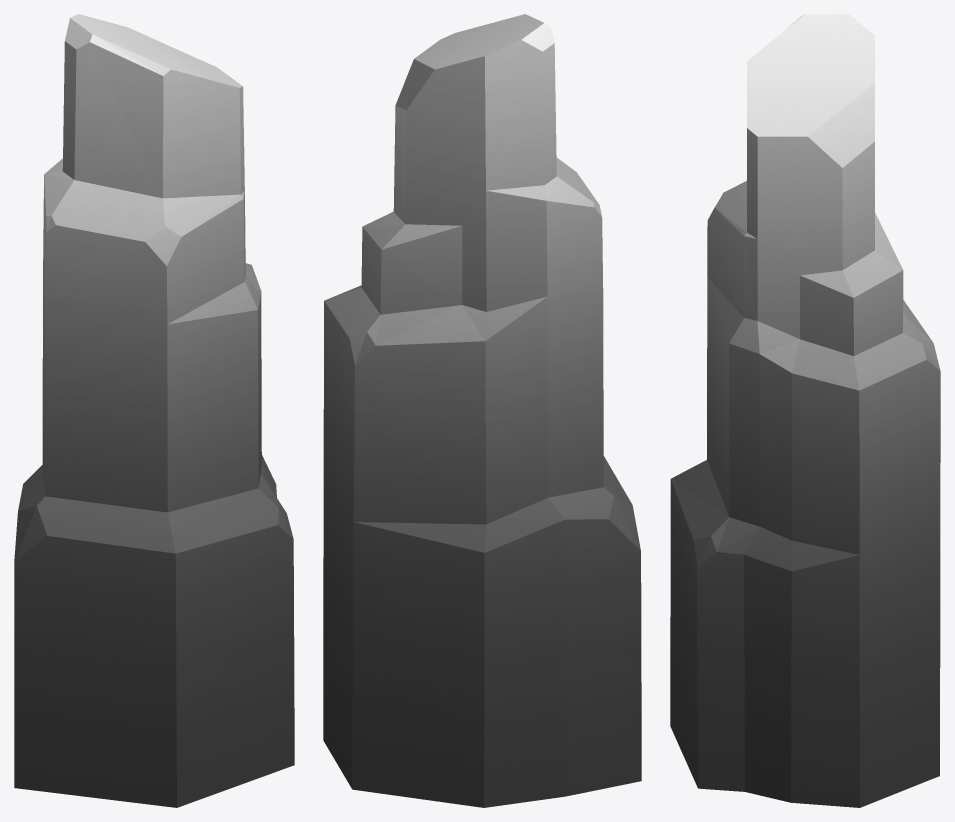
Rendered from CrystalCube_B.fbx.
3 renders of one model, left to right at view 1: azimuth 30°, elevation 25°; view 2: azimuth 150°, elevation 25°; view 3: azimuth 270°, elevation 25°, orthographic. The views are drawn at different scales.
Parts seen in each view (by area): view 1: CrystalCube_B; view 2: CrystalCube_B; view 3: CrystalCube_B.
Boxes of the visible parts, <box> form: CrystalCube_B: <box>14,14,294,807</box>; CrystalCube_B: <box>323,14,641,807</box>; CrystalCube_B: <box>670,14,940,807</box>.
Size of the model in its own units: 172 by 435 by 151.
Materials: 1 (1 with a texture image).
